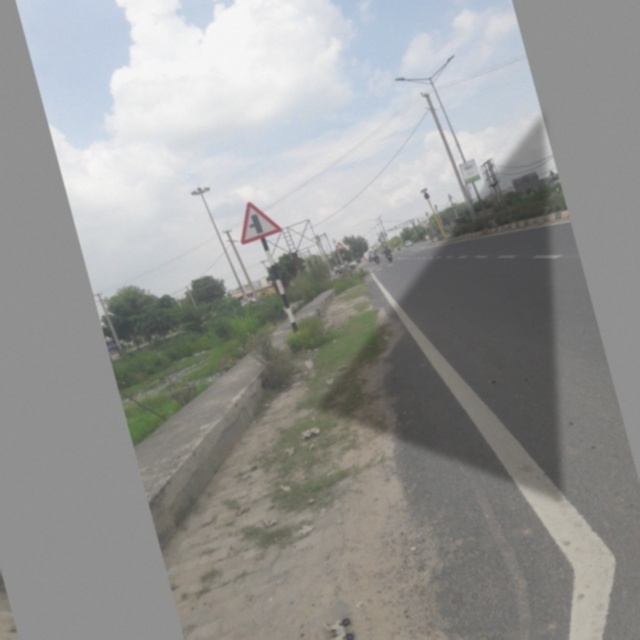Side_Road_Left: (222, 189, 286, 252)
